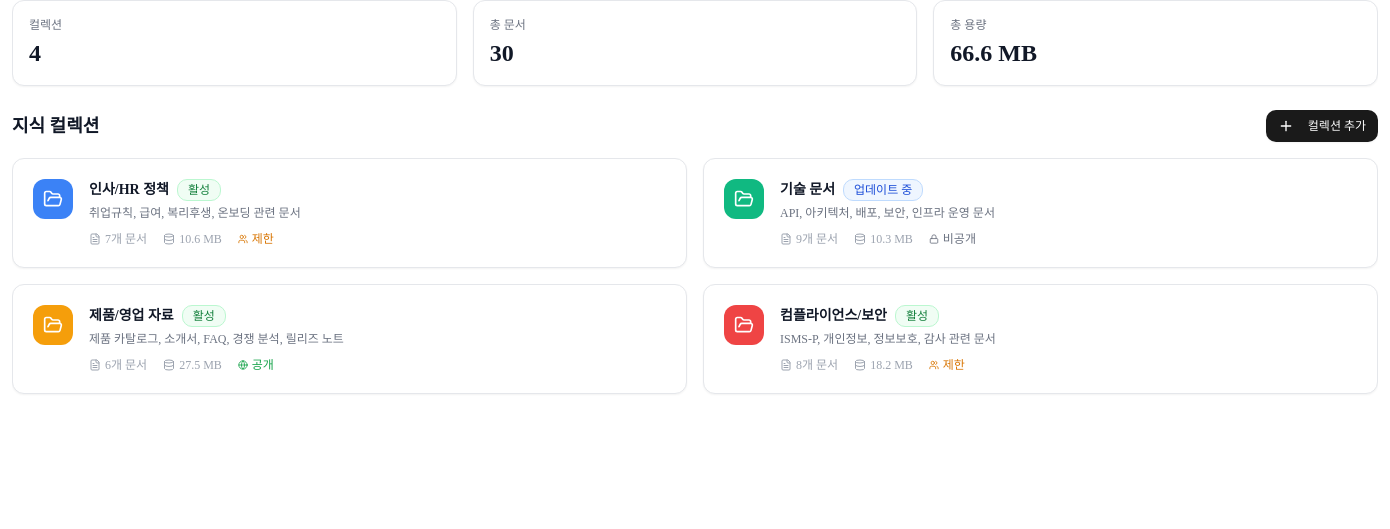
Test: KnowledgeBaseView — QA Edge Cases › Data Boundary Tests › shows empty-state when search matches no documents
The width and height of the screenshot is (1390, 529).
Note: Navigate to a collection
Step 1. Click the button "인사/HR 정책 활성 취업규칙, 급여, 복리후생, 온보딩 관련 문서 7개 문서 10.6 MB 제한" → click(53, 199), box [12,158,687,268]
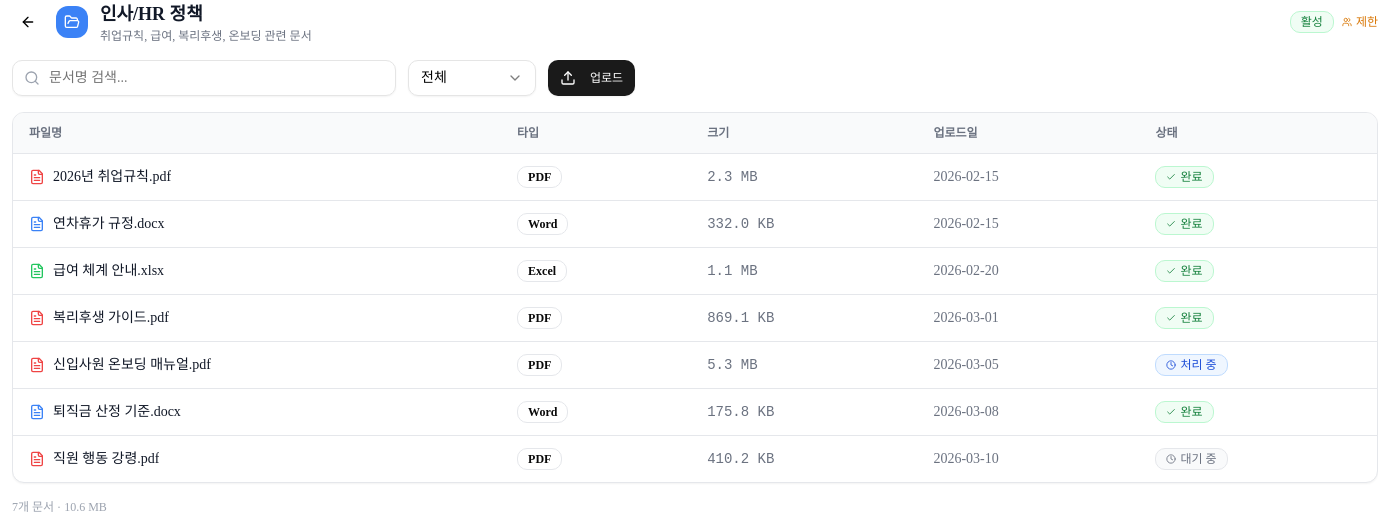
Note: Type a search query that matches nothing
Step 2. Type "xyz존재하지않는문서명zzz" into the field named "문서 검색" → (204, 78), box [12,60,396,96]
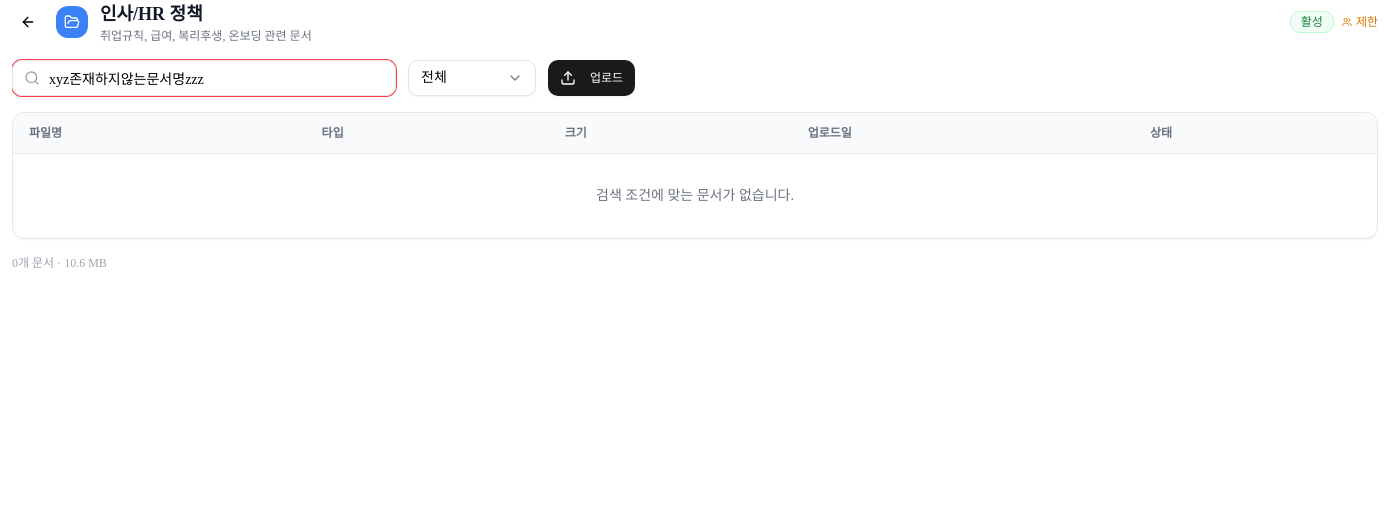
Expected: the text "검색 조건에 맞는 문서가 없습니다." is shown, [596,188,794,202]
